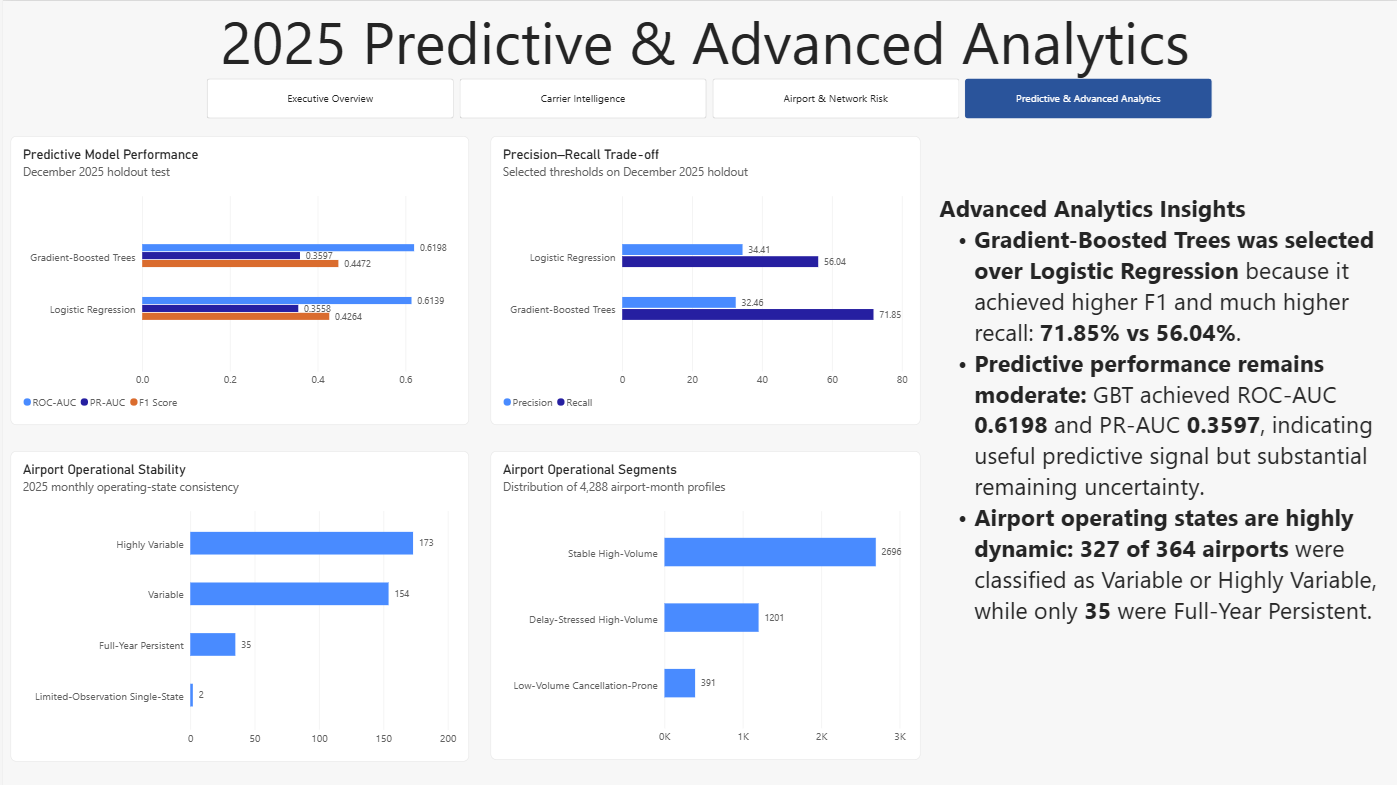

The page's visual inventory and layout, read from the dashboard file:
{"tool":"powerbi","page":{"name":"Predictive & Advanced Analytics","canvas":[1920,1080],"ordinal":3},"visuals":[{"type":"textbox","box":[9.4,0,1911,125.5],"z":0},{"type":"clusteredBarChart","title":"Predictive Model Performance","fields":{"Category":["Predictive Model Comparison.model"],"Y":["Sum(Predictive Model Comparison.roc_auc)","Sum(Predictive Model Comparison.pr_auc)","Sum(Predictive Model Comparison.f1)"]},"box":[9.9,185.5,629.6,396.7],"z":1000},{"type":"clusteredBarChart","title":"Precision–Recall Trade-off","fields":{"Category":["Predictive Model Comparison.model"],"Y":["Sum(Predictive Model Comparison.precision_pct)","Sum(Predictive Model Comparison.recall_pct)"]},"box":[669.1,185.5,590.1,396.7],"z":2000},{"type":"clusteredBarChart","title":"Airport Operational Stability","fields":{"Category":["Airport Operational Stability 2025.refined_stability_class"],"Y":["CountNonNull(Airport Operational Stability 2025.airport_code)"]},"box":[9.9,617.8,629.6,426.3],"z":3000},{"type":"clusteredBarChart","title":"Airport Operational Segments","fields":{"Category":["Airport Monthly Operational Segments.cluster_label"],"Y":["CountNonNull(Airport Monthly Operational Segments.airport_code)"]},"box":[669.1,617.8,590.1,424.3],"z":4000},{"type":"textbox","box":[1284.9,262.5,615.8,637.5],"z":5000},{"type":"pageNavigator","box":[280.3,106.6,1383.6,55.3],"z":5001}]}

Visuals, with their boxes in screenshot pixels (x1, y1, x2, y2), scaled from the page's 1920x1080 canvas onto the 1397x785 screenshot:
textbox: [left=7, top=0, right=1396, bottom=91]
"Predictive Model Performance" clusteredBarChart: [left=7, top=135, right=465, bottom=423]
"Precision–Recall Trade-off" clusteredBarChart: [left=487, top=135, right=916, bottom=423]
"Airport Operational Stability" clusteredBarChart: [left=7, top=449, right=465, bottom=759]
"Airport Operational Segments" clusteredBarChart: [left=487, top=449, right=916, bottom=757]
textbox: [left=935, top=191, right=1383, bottom=654]
pageNavigator: [left=204, top=77, right=1211, bottom=118]
